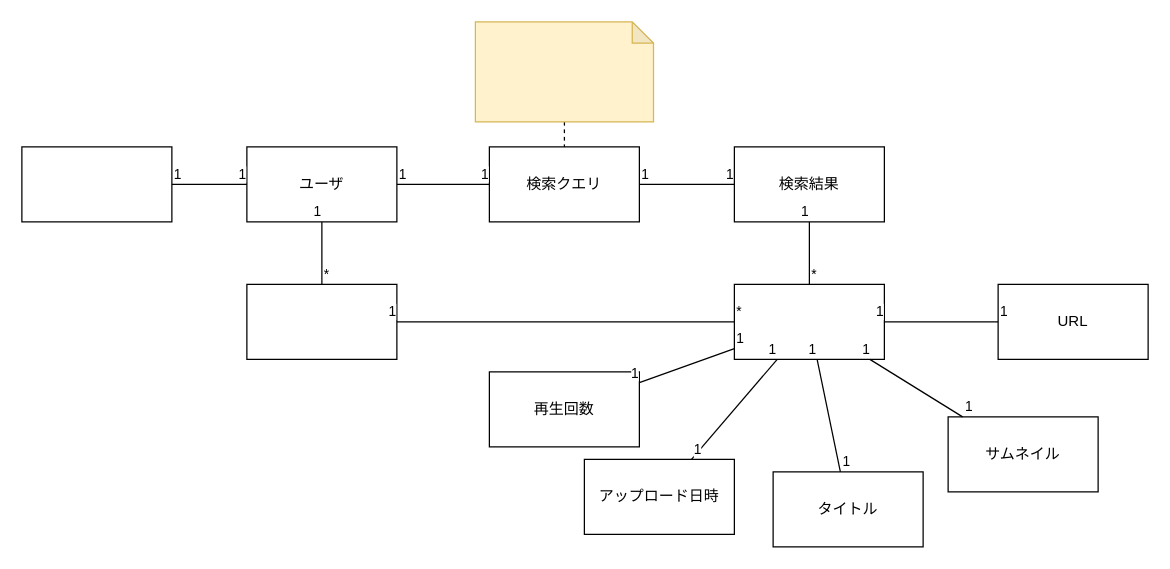
Image size: 1170x569. Some labels were removed from this diagram. Here are the shapes that lost their labels. From the top down, the box of each, then its label:
(474, 21, 654, 122): 考えられるのは ・キーワード ・日時 ・条件(降順、昇順)
(21, 146, 172, 222): 会員情報
(246, 283, 397, 359): プレイリスト
(733, 283, 884, 359): 動画
